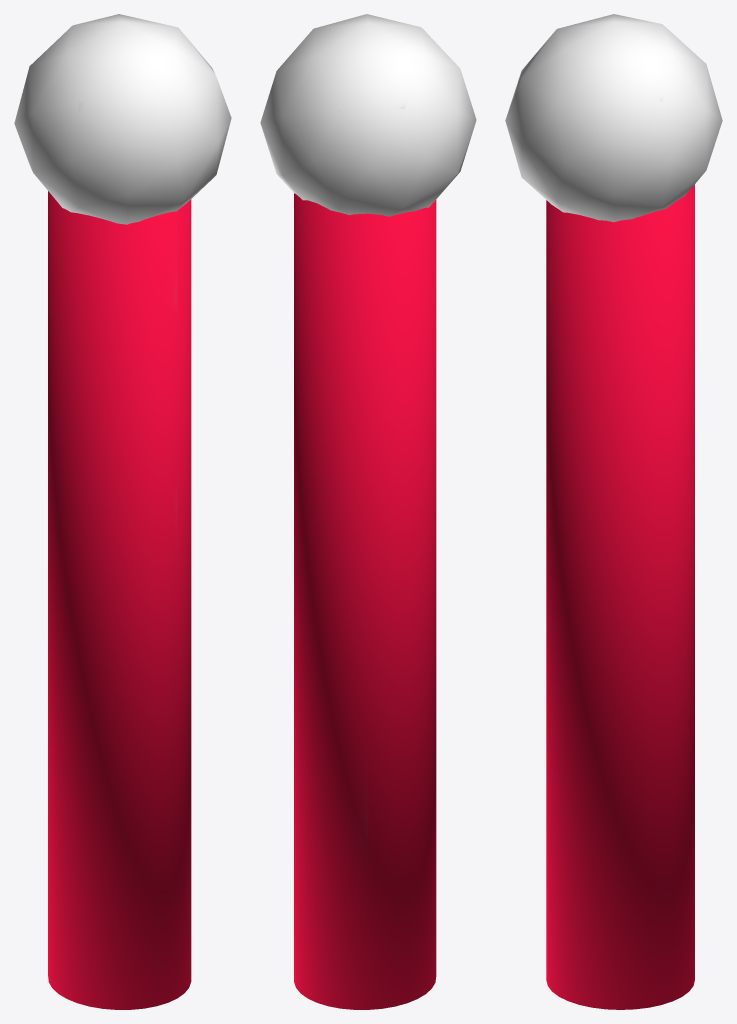
3 renders of one model, left to right at view 1: azimuth 30°, elevation 25°; view 2: azimuth 150°, elevation 25°; view 3: azimuth 270°, elevation 25°, orthographic.
Visible parts, largest first — view 1: Icosphere; view 2: Icosphere; view 3: Icosphere.
Part boxes in pixels (box(x1,y1,x2,y2)): Icosphere: box(14, 14, 231, 1009); Icosphere: box(260, 14, 476, 1009); Icosphere: box(505, 14, 722, 1009).
Size of the model in its own units: 124 by 632 by 130.
Materials: 1 (1 with a texture image).
